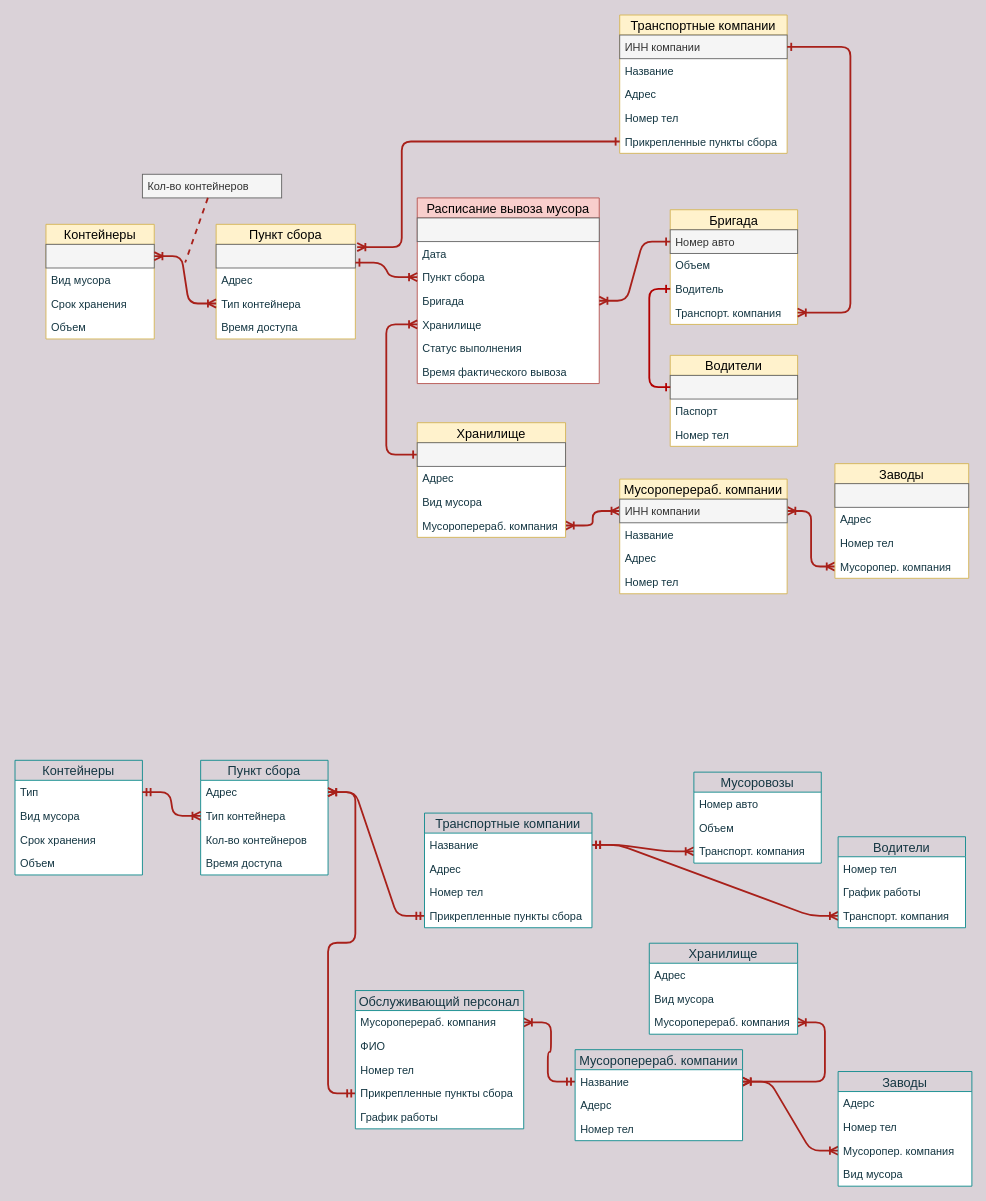
Image size: 986x1201. Some labels were removed from this diagram. Each missing label, with the centre of its shape:
"ID (тип)" goes at point 99,255.
"ID операции" goes at point 507,229.
"ID пункта сбора" goes at point 285,255.
"ID хранилища" goes at point 491,454.
"ИНН" goes at point 733,386.
"ИНН завода" goes at point 901,495.
